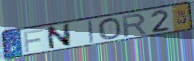2: (149, 9, 172, 34)
F: (23, 28, 46, 53)
I: (87, 19, 95, 44)
N: (45, 22, 72, 51)
O: (96, 17, 123, 40)
R: (121, 12, 148, 38)
